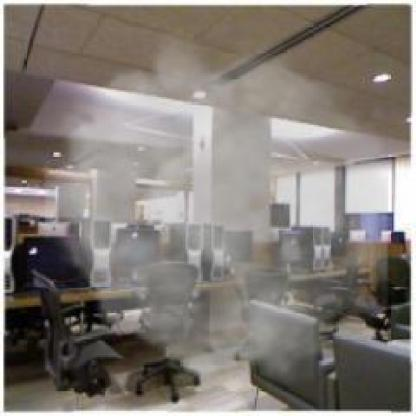Smoke: (45, 28, 388, 397)
